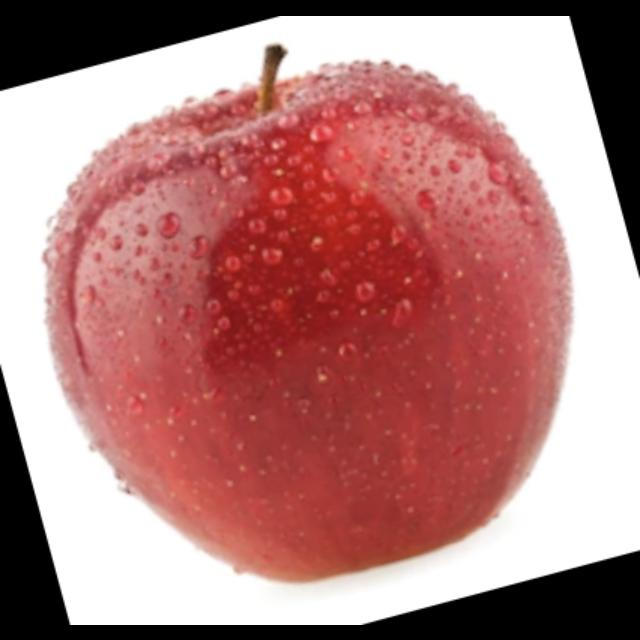Apel Segar: (48, 52, 576, 584)
